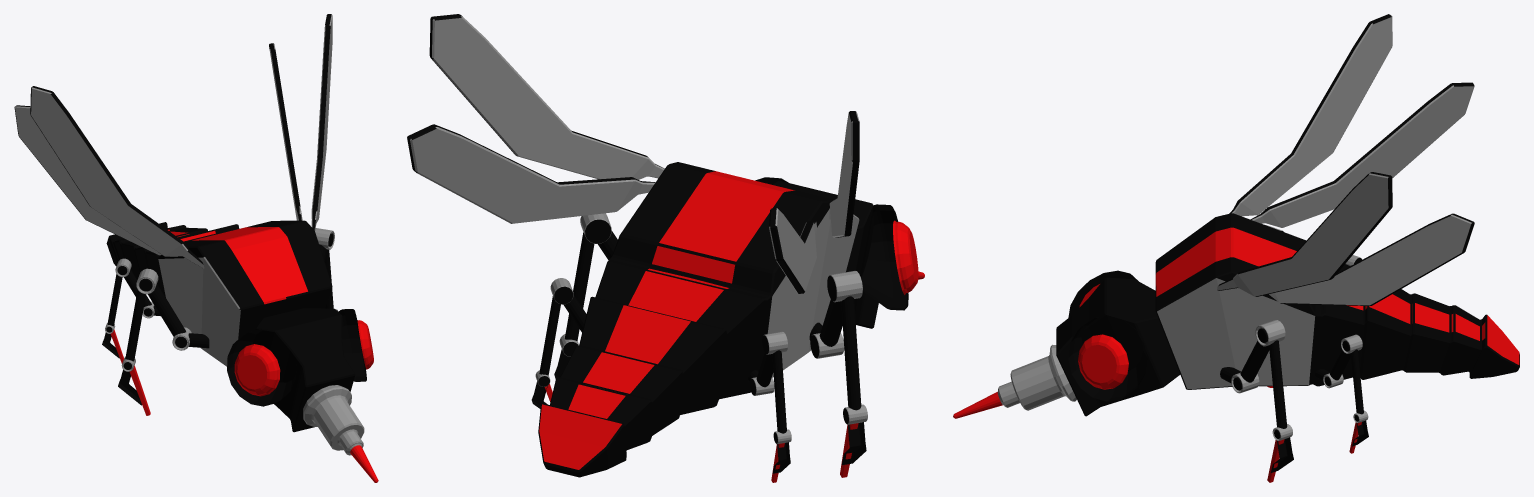
The model's file is Flies_Mecha_Red.fbx.
3 renders of one model, left to right at view 1: azimuth 30°, elevation 25°; view 2: azimuth 150°, elevation 25°; view 3: azimuth 270°, elevation 25°, orthographic. The views are drawn at different scales.
Parts seen in each view (by area): view 1: Fly_Red; view 2: Fly_Red; view 3: Fly_Red.
Part boxes in pixels (x1=…): Fly_Red: x1=14, y1=14, x2=378, y2=482; Fly_Red: x1=407, y1=14, x2=924, y2=482; Fly_Red: x1=953, y1=14, x2=1519, y2=482.
Size of the model in its own units: 246 by 237 by 359.
